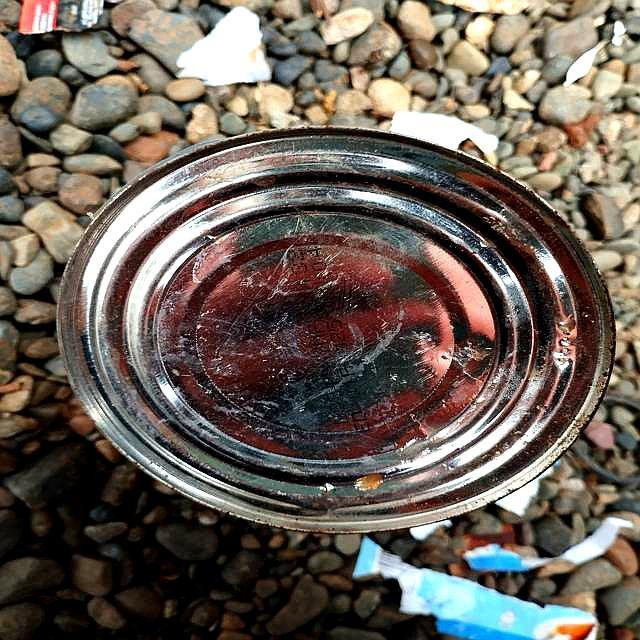Non-biodegradable: (55, 124, 617, 534)
